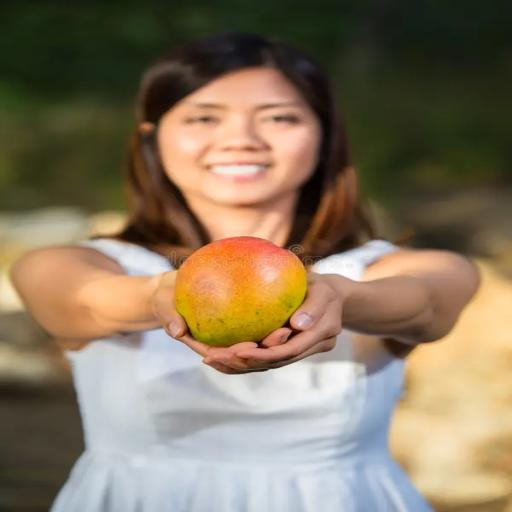mango: (175, 237, 307, 347)
